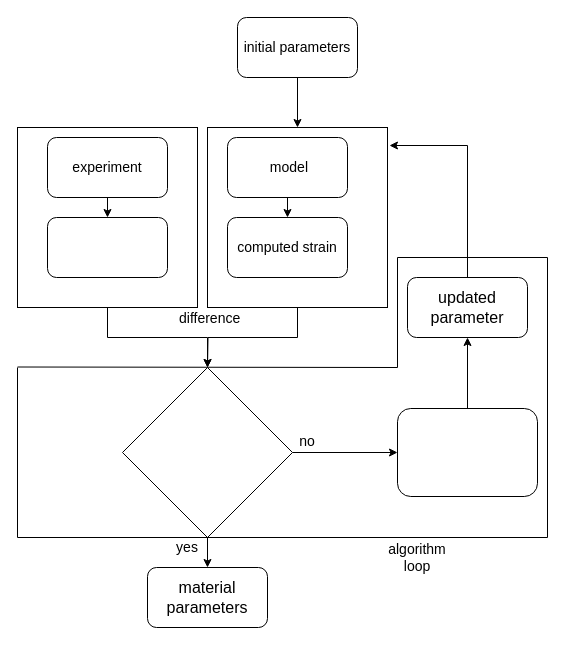
This 566x645 diagram has some shape labels left out. The shapes that lost their labels are listed below. From the top down, each one's centre as x and y in pixels, then its label:
At point (107, 247): "measured strain".
At point (207, 452): "comparing data from experimental and numerical".
At point (467, 452): "Gauss Newton and Levenberg Marquardt algorithm".
